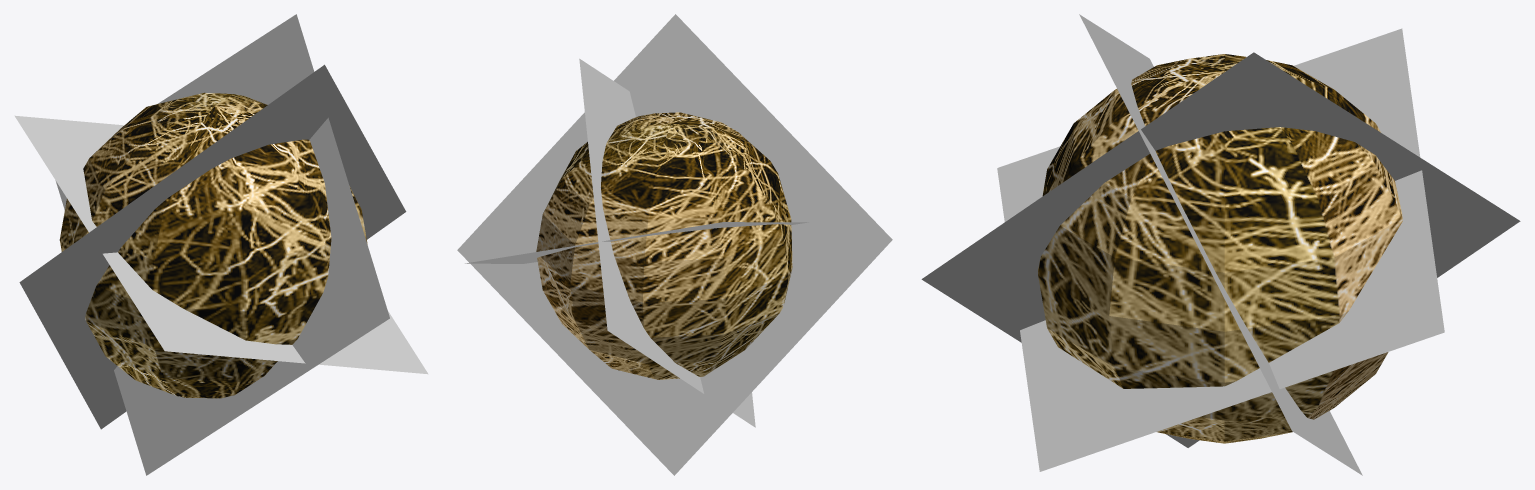
The model's file is ghostCowboy_environment_tumbleweed.fbx.
3 views of the same model, side by side, from view 1: azimuth 30°, elevation 25°; view 2: azimuth 150°, elevation 25°; view 3: azimuth 270°, elevation 25° (orthographic). The views are drawn at different scales.
Visible parts, largest first — view 1: pSphere1, pPlane2, pPlane3, pPlane1; view 2: pSphere1, pPlane3, pPlane2, pPlane1; view 3: pSphere1, pPlane1, pPlane2, pPlane3.
Boxes of the visible parts, box(x1,y1,x2,y2) form: pSphere1: box(59, 92, 367, 398); pPlane2: box(55, 14, 389, 475); pPlane3: box(19, 64, 406, 429); pPlane1: box(14, 115, 428, 374); pSphere1: box(536, 112, 792, 379); pPlane3: box(457, 14, 892, 475); pPlane2: box(579, 58, 755, 427); pPlane1: box(465, 222, 808, 263); pSphere1: box(1038, 54, 1402, 443); pPlane1: box(997, 28, 1444, 471); pPlane2: box(921, 52, 1520, 447); pPlane3: box(1079, 14, 1362, 475).
Bounding box in the file's own units: 15.41 × 13.97 × 14.3.
